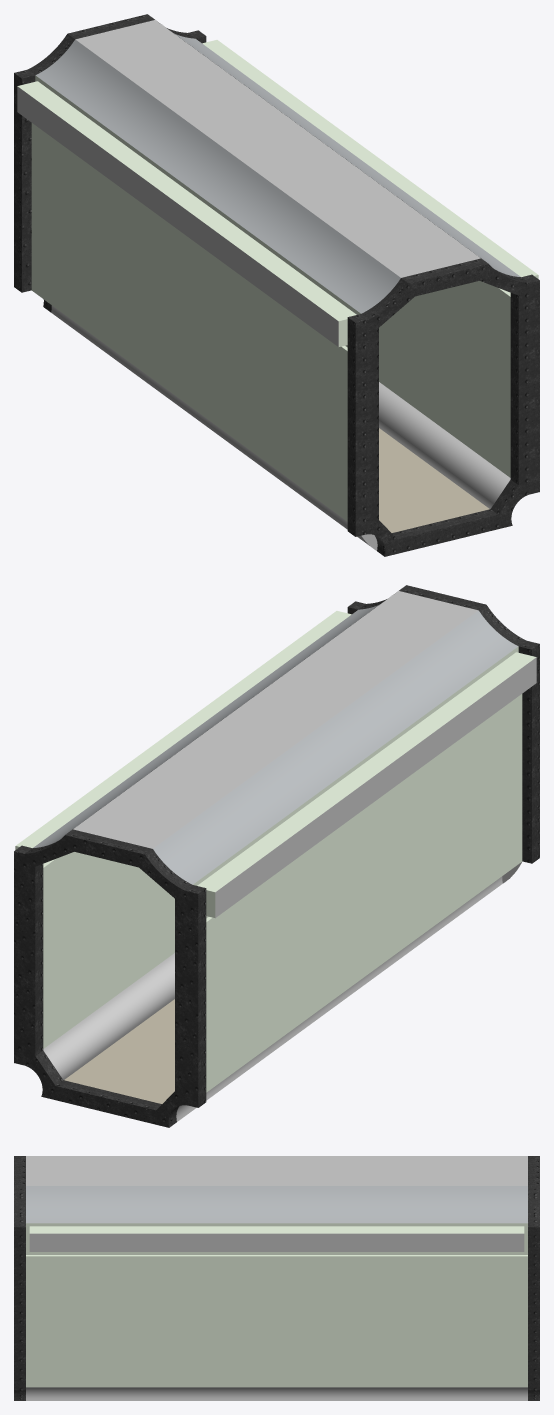
File: pasillo 2 puertas.fbx
3 views of the same model, one above another, from view 1: azimuth 30°, elevation 25°; view 2: azimuth 150°, elevation 25°; view 3: azimuth 270°, elevation 25° (orthographic). The views are drawn at different scales.
Parts seen in each view (by area): view 1: Model; view 2: Model; view 3: Model.
Part boxes in pixels (bbox=[...]): Model: bbox=[14, 14, 539, 556]; Model: bbox=[14, 585, 539, 1127]; Model: bbox=[14, 1156, 539, 1400].
Bounding box in the file's own units: 2.06 × 2.63 × 6.09.
